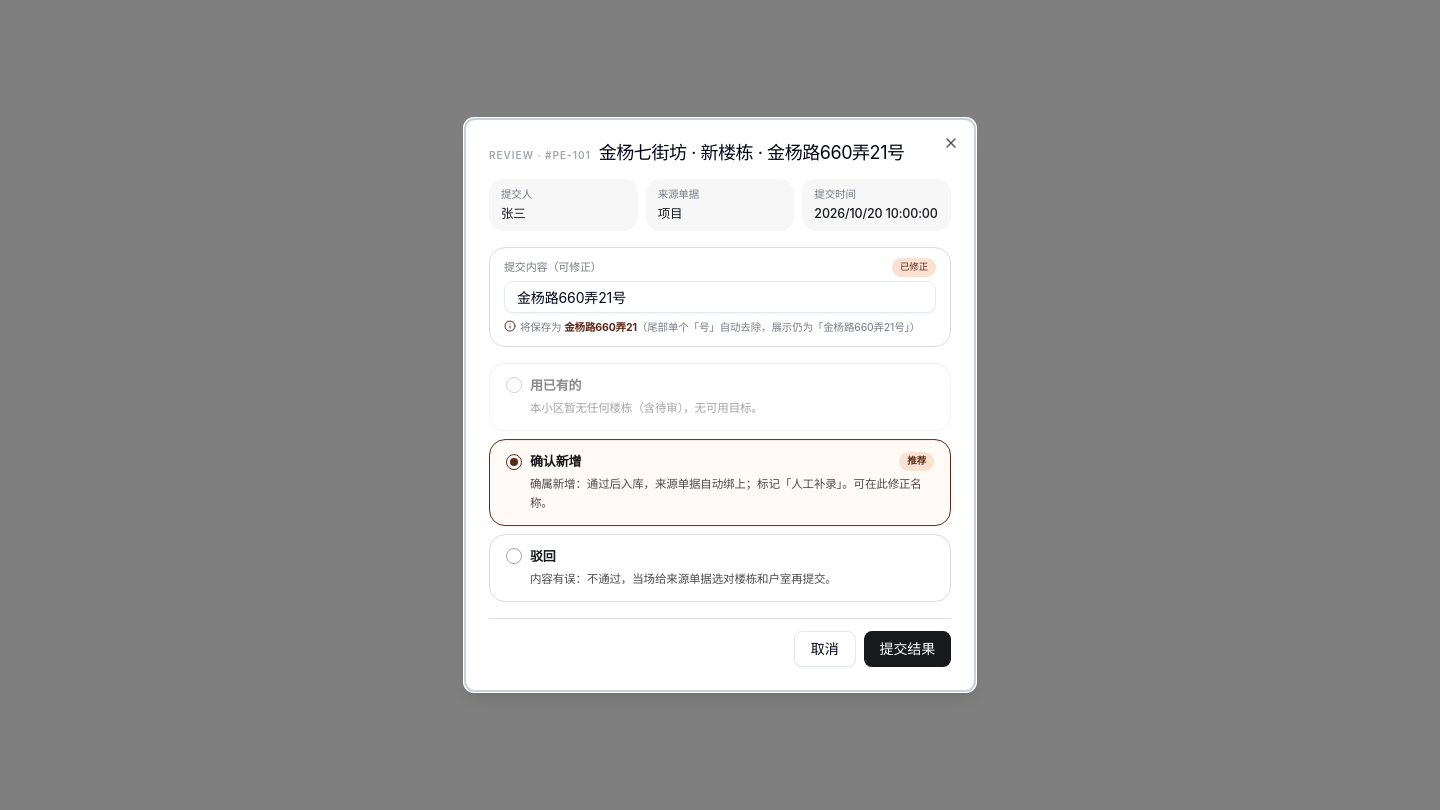
Test case: ReviewResolveModal · 名称修正（BR-29 场景①） › 名称清空后提交按钮禁用（禁止空名落库）
Clear the field with placeholder "楼栋号，如 21" at (720, 297), box top-left (504, 281), bottom-right (936, 313)
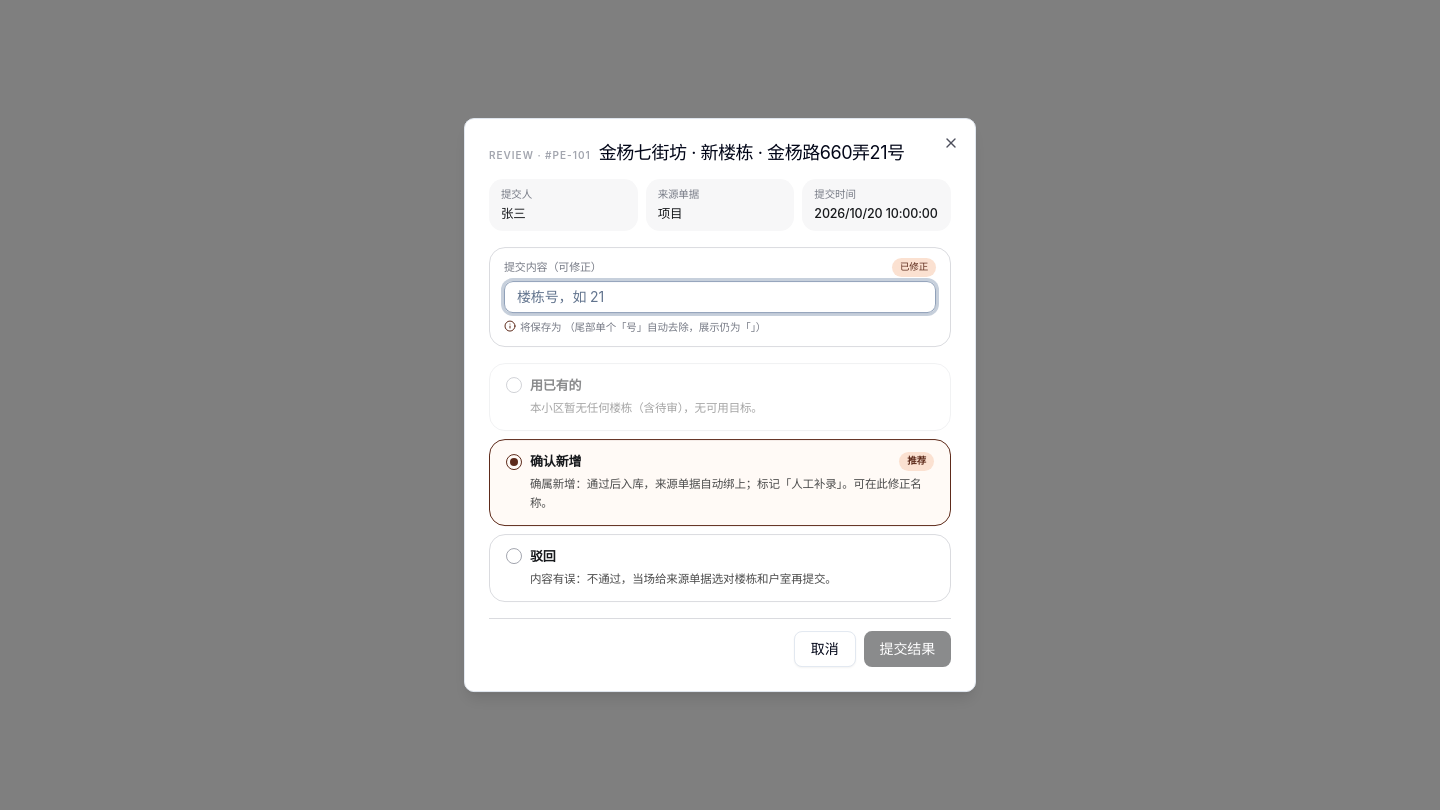
expect the button "提交结果" is disabled: met, box top-left (864, 631), bottom-right (951, 667)
